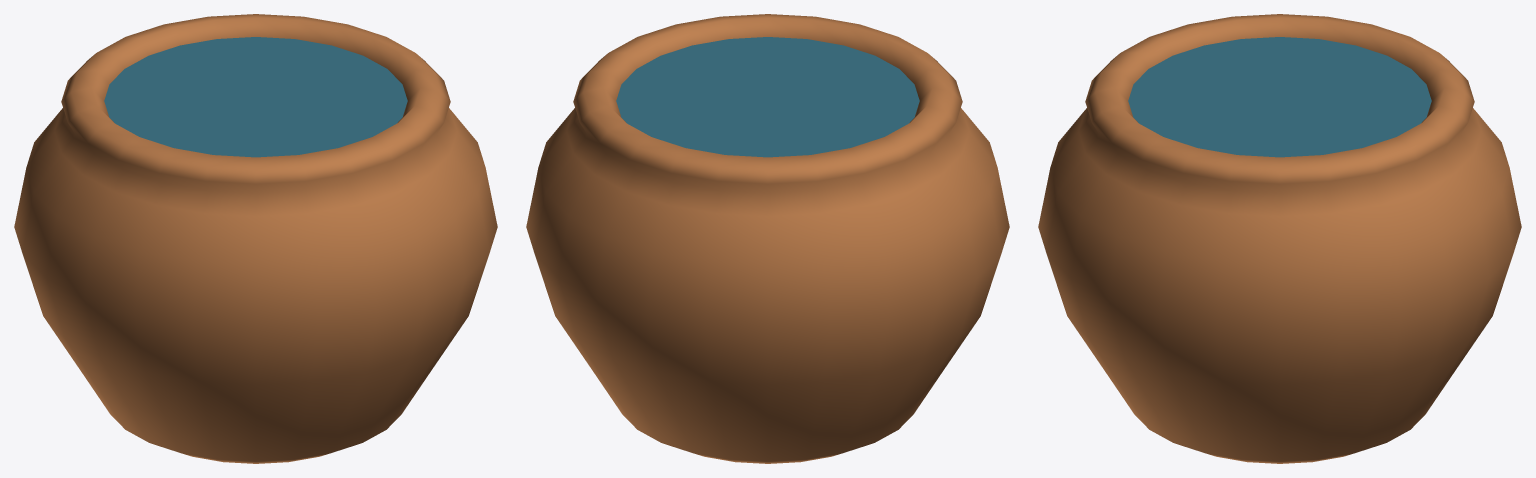
Rendered from itch_assetquest_pond_clay_pot.glb.
The picture shows the model from 3 angles, left to right: view 1: azimuth 30°, elevation 25°; view 2: azimuth 150°, elevation 25°; view 3: azimuth 270°, elevation 25°; orthographic projection.
Parts seen in each view (by area): view 1: Clay_Pot, Clay_Pot_Water; view 2: Clay_Pot, Clay_Pot_Water; view 3: Clay_Pot, Clay_Pot_Water.
Boxes of the visible parts, box(x1,y1,x2,y2) form: Clay_Pot: box(14, 14, 497, 463); Clay_Pot_Water: box(104, 37, 407, 157); Clay_Pot: box(526, 14, 1009, 463); Clay_Pot_Water: box(616, 37, 919, 157); Clay_Pot: box(1038, 14, 1521, 463); Clay_Pot_Water: box(1128, 37, 1431, 157).
Bounding box in the file's own units: 0.96 × 0.7068 × 0.96.
